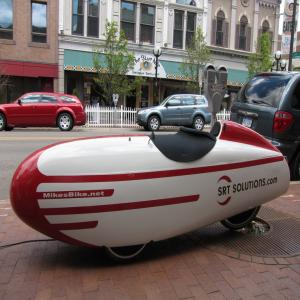Vehicle-registration-plate: (242, 117, 254, 128)
